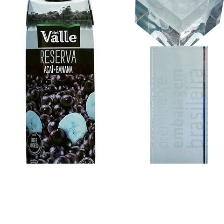carton: (17, 0, 109, 164)
